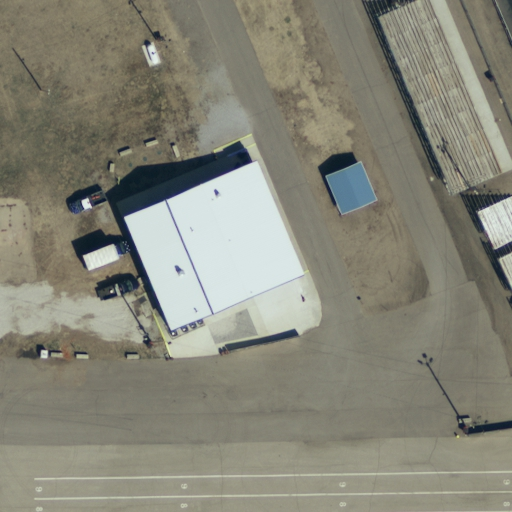DT: (134, 327, 165, 363), (30, 78, 55, 106), (454, 413, 477, 436)
